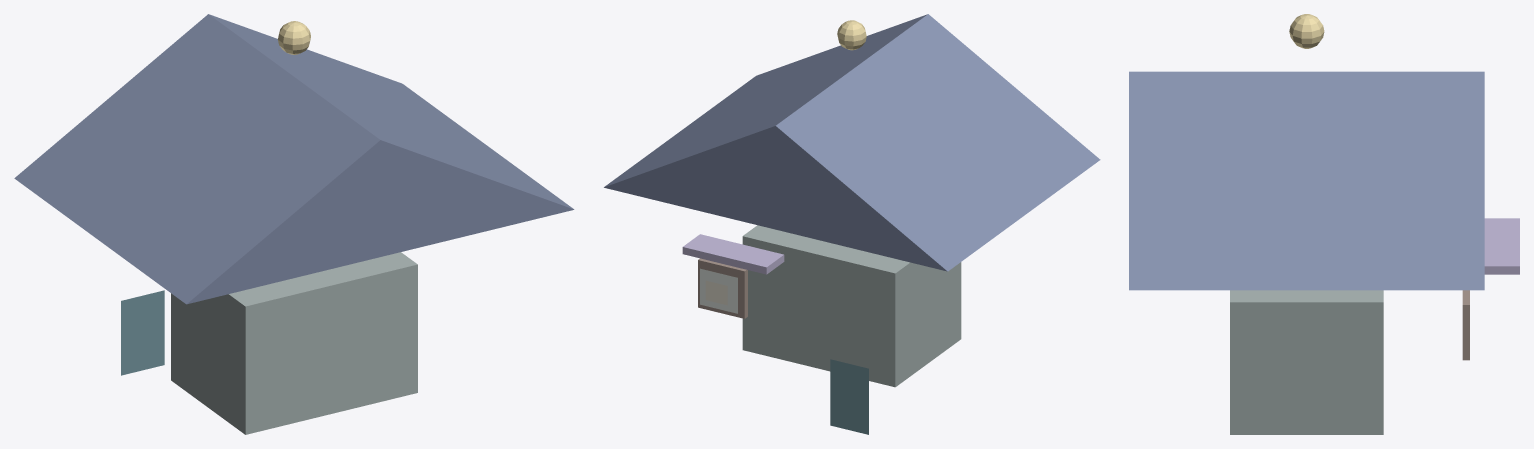
Rendered from moonhill-chartmaker-01.glb.
3 views of the same model, side by side, from view 1: azimuth 30°, elevation 25°; view 2: azimuth 150°, elevation 25°; view 3: azimuth 270°, elevation 25° (orthographic). The views are drawn at different scales.
Visible parts, largest first — view 1: ChartmakerRoof, ChartmakerBody, Door, RoofLantern; view 2: ChartmakerRoof, ChartmakerBody, Door, VioletAwning, MapBayFrame, MapBayGlass, RoofLantern; view 3: ChartmakerRoof, ChartmakerBody, VioletAwning, RoofLantern, MapBayFrame.
Boxes of the visible parts, box(x1,y1,x2,y2) form: ChartmakerRoof: box(14, 14, 574, 304); ChartmakerBody: box(171, 252, 417, 434); Door: box(121, 290, 164, 375); RoofLantern: box(278, 21, 310, 54); ChartmakerRoof: box(604, 14, 1100, 271); ChartmakerBody: box(742, 225, 961, 387); Door: box(830, 359, 868, 434); VioletAwning: box(682, 234, 784, 274); MapBayFrame: box(698, 258, 747, 318); MapBayGlass: box(700, 268, 737, 313); RoofLantern: box(837, 20, 866, 50); ChartmakerRoof: box(1129, 71, 1484, 290); ChartmakerBody: box(1230, 290, 1383, 434); VioletAwning: box(1484, 218, 1519, 274); RoofLantern: box(1289, 14, 1324, 48); MapBayFrame: box(1462, 290, 1469, 360).
Bounding box in the file's own units: 2.5 × 2.37 × 2.11.
